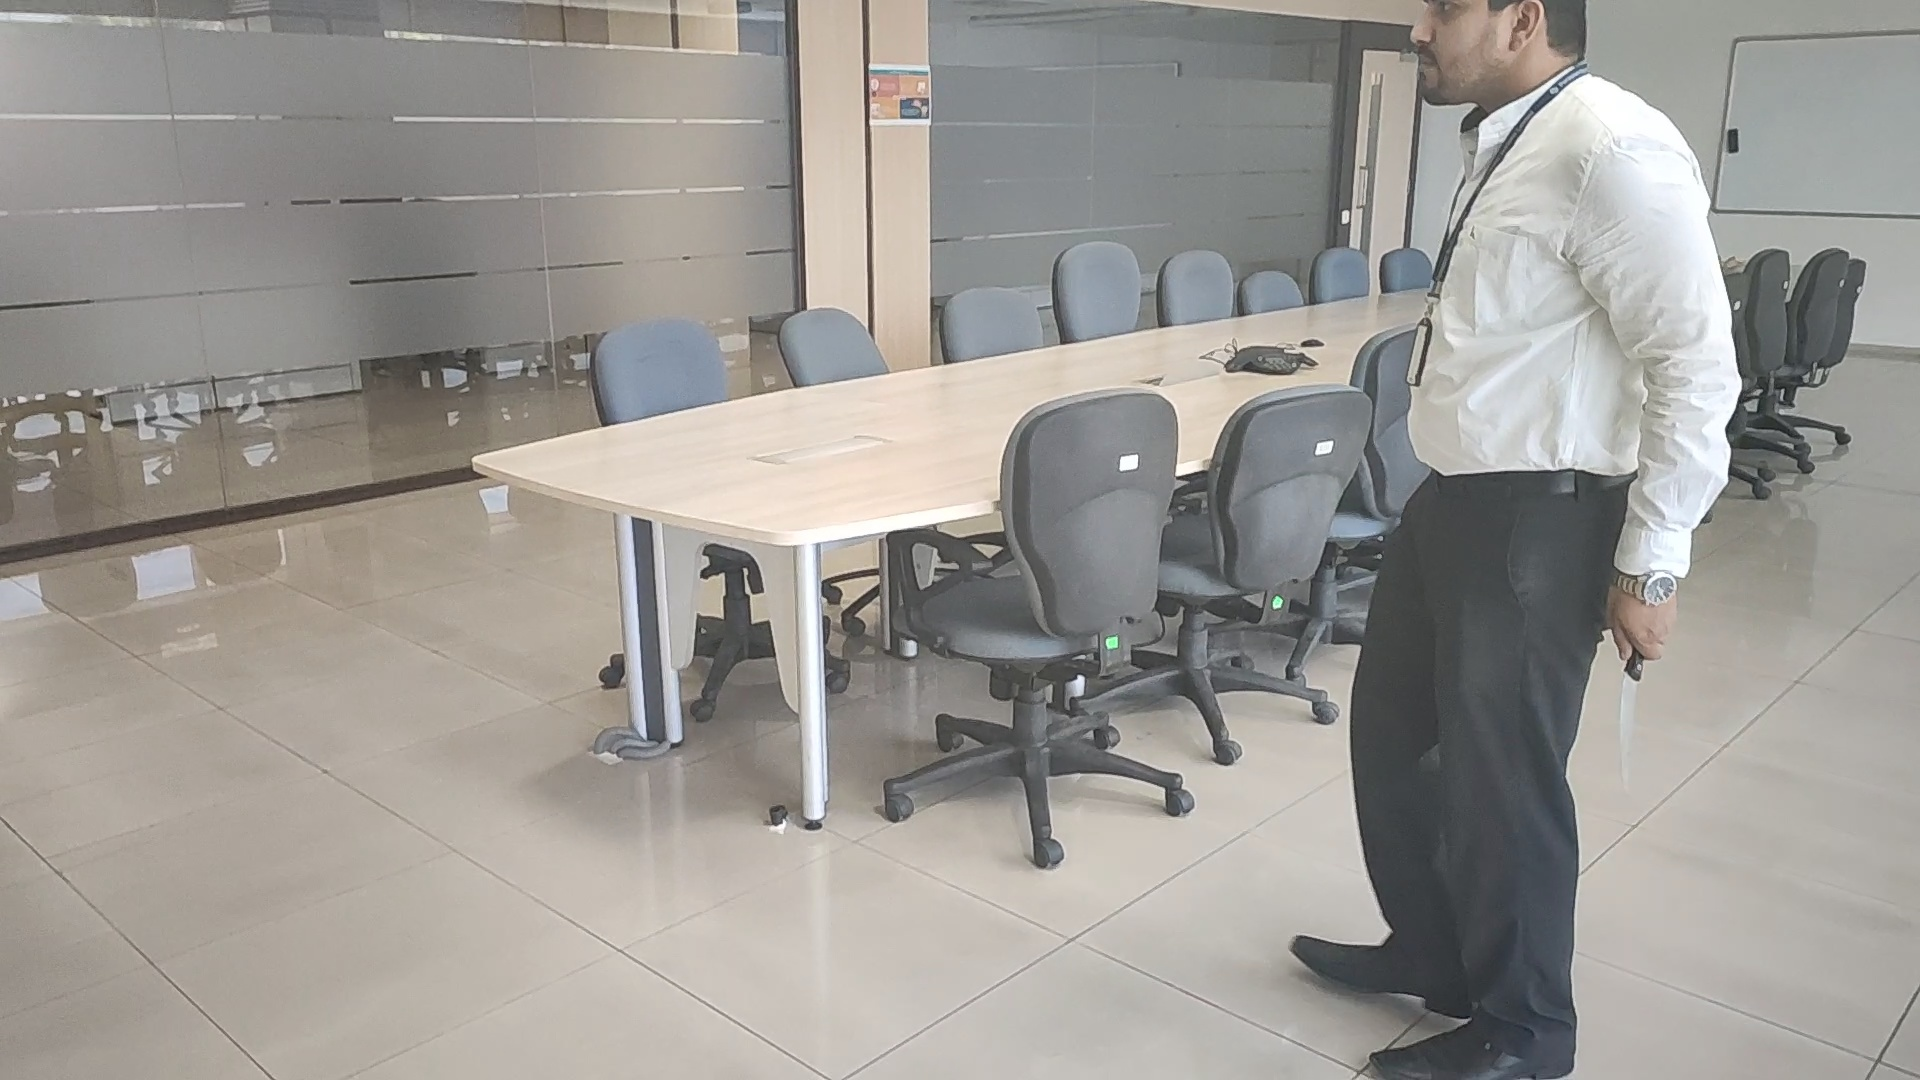knife: (1619, 661, 1636, 789)
